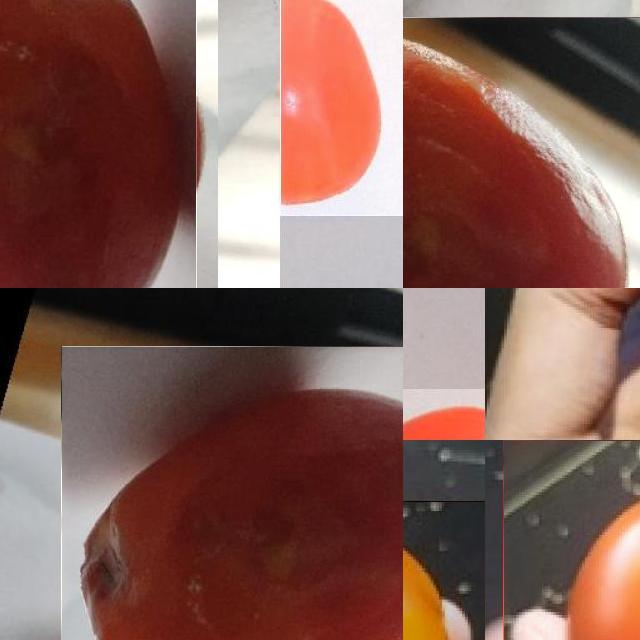Fresh Tomato: (503, 440, 640, 640), (280, 0, 403, 215)
Rotten Tomato: (61, 346, 403, 640), (403, 17, 640, 288), (0, 0, 196, 288)
